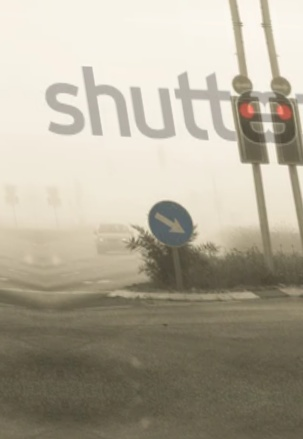Keep right: (140, 191, 201, 252)
